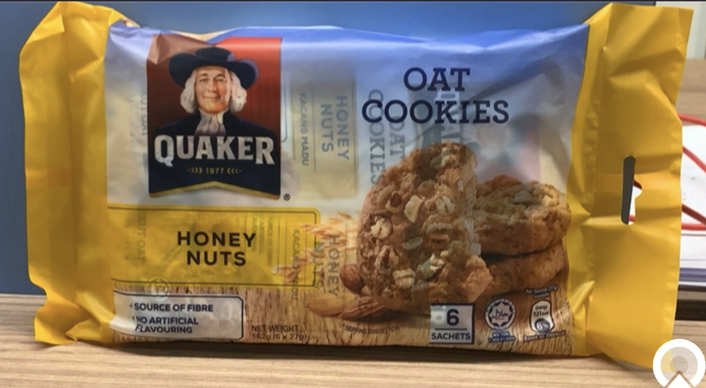cookies_150g: (121, 54, 557, 349)
